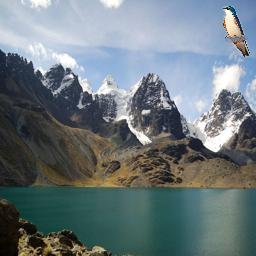Swallow: (222, 6, 250, 57)
